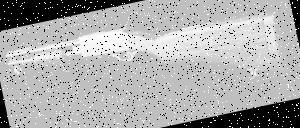shotgun: (0, 0, 293, 126)
